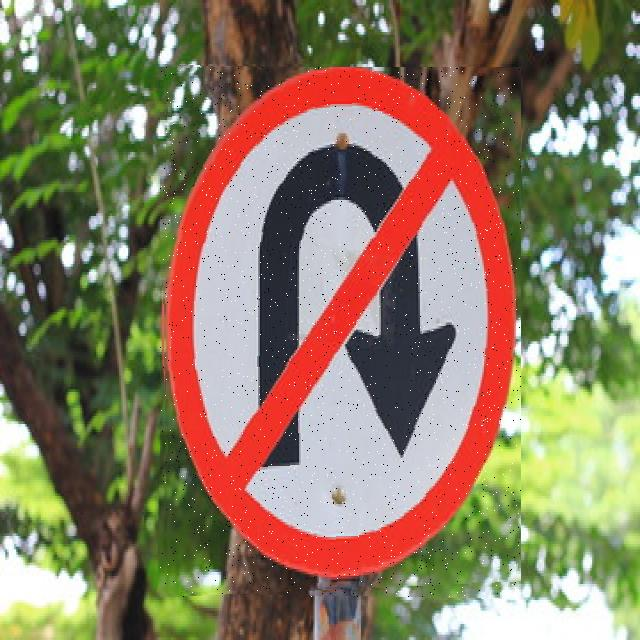no u turn: (160, 67, 521, 597)
